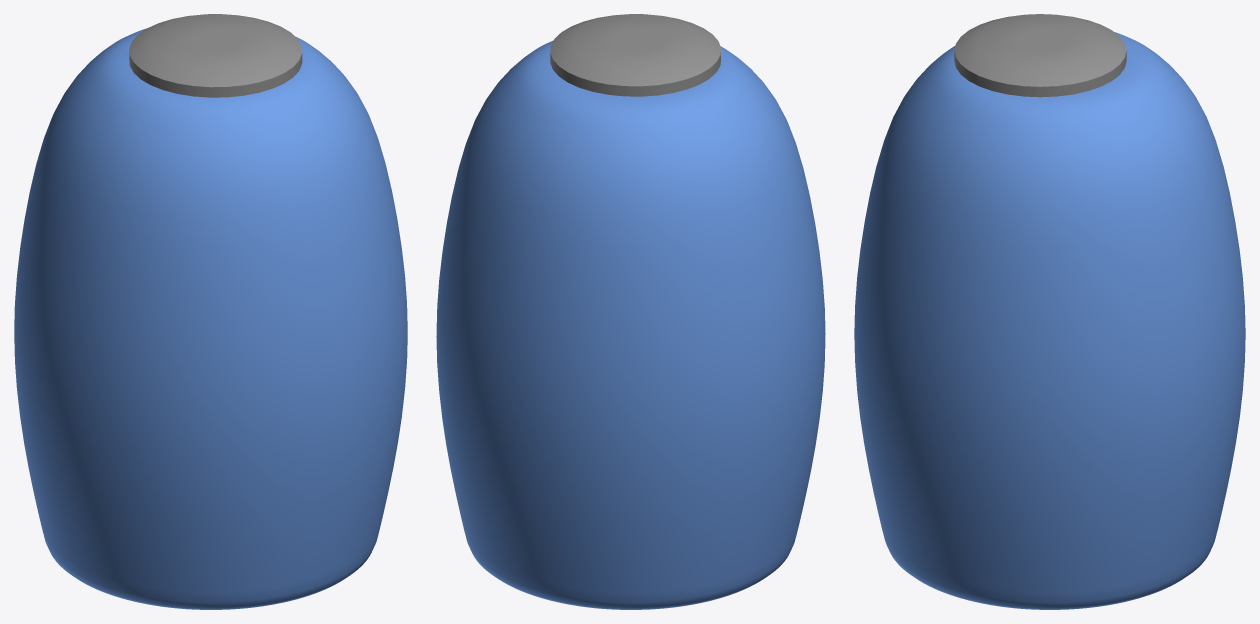
The model's file is SM_Shampoo_Bottom_A.fbx.
3 renders of one model, left to right at view 1: azimuth 30°, elevation 25°; view 2: azimuth 150°, elevation 25°; view 3: azimuth 270°, elevation 25°, orthographic.
Parts seen in each view (by area): view 1: Cylinder, Cylinder.002; view 2: Cylinder, Cylinder.002; view 3: Cylinder, Cylinder.002.
Boxes of the visible parts, x1,y1,x2,y2 form: Cylinder: (14,28,407,609); Cylinder.002: (129,14,302,97); Cylinder: (436,40,825,609); Cylinder.002: (550,14,720,96); Cylinder: (854,32,1245,609); Cylinder.002: (954,14,1126,97).
Bounding box in the file's own units: 729 × 1042 × 729.
